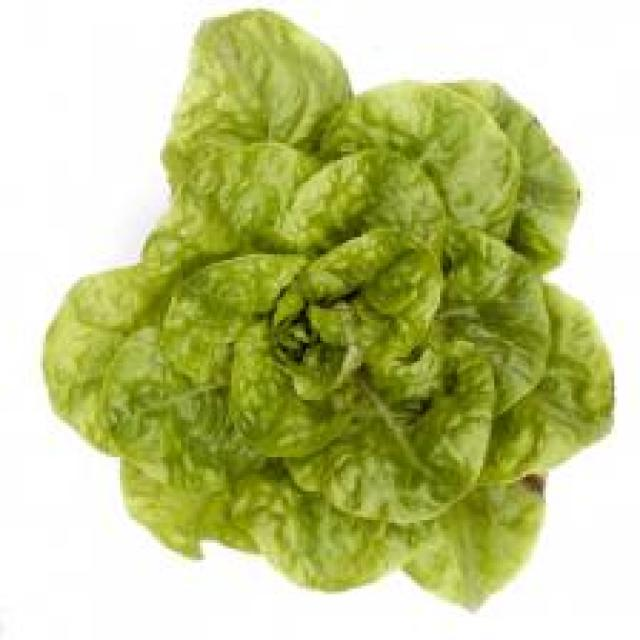Lettuce: (39, 12, 618, 614)
